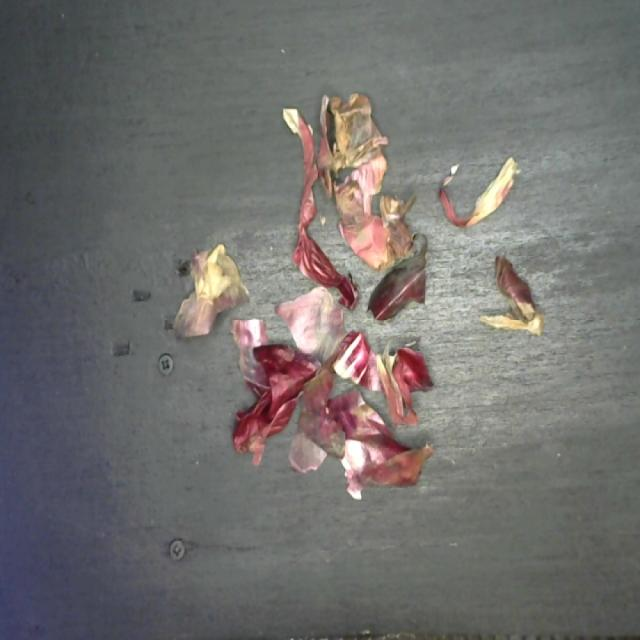biodegradable: (162, 83, 548, 507)
